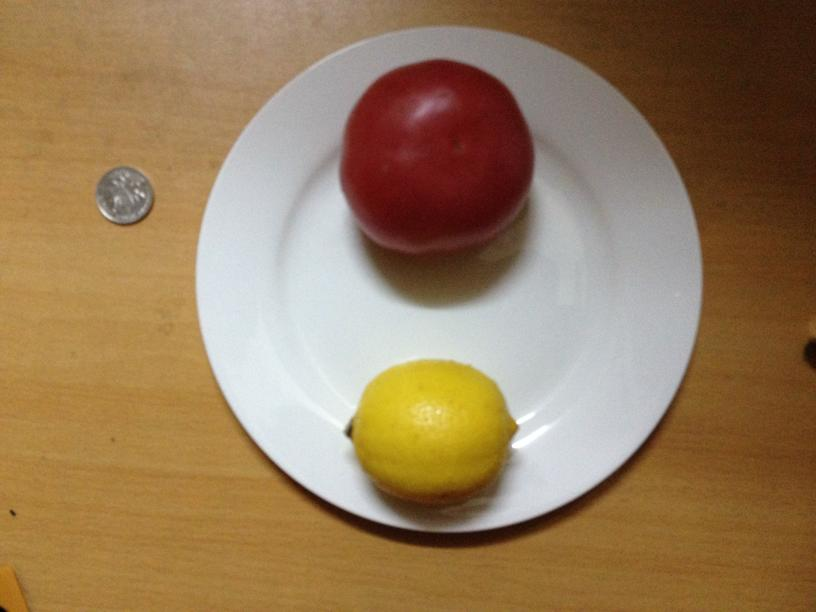coin: (94, 168, 154, 224)
lemon: (349, 363, 515, 504)
tomato: (345, 56, 534, 255)
